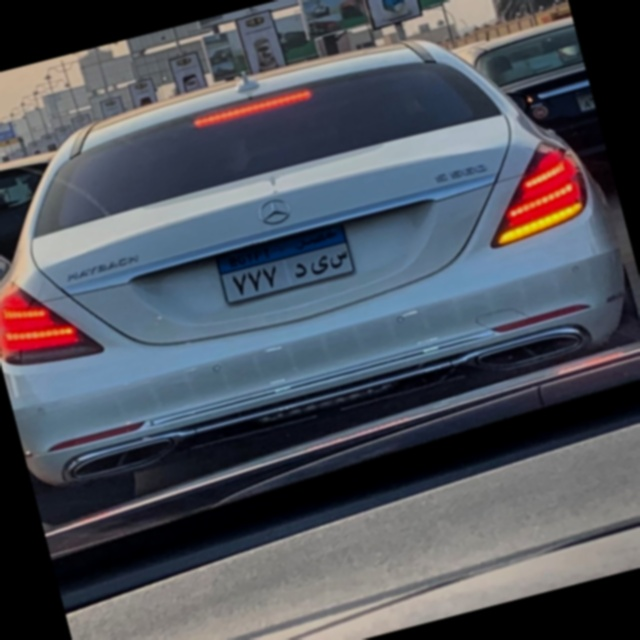License Plate: (209, 219, 360, 310)
